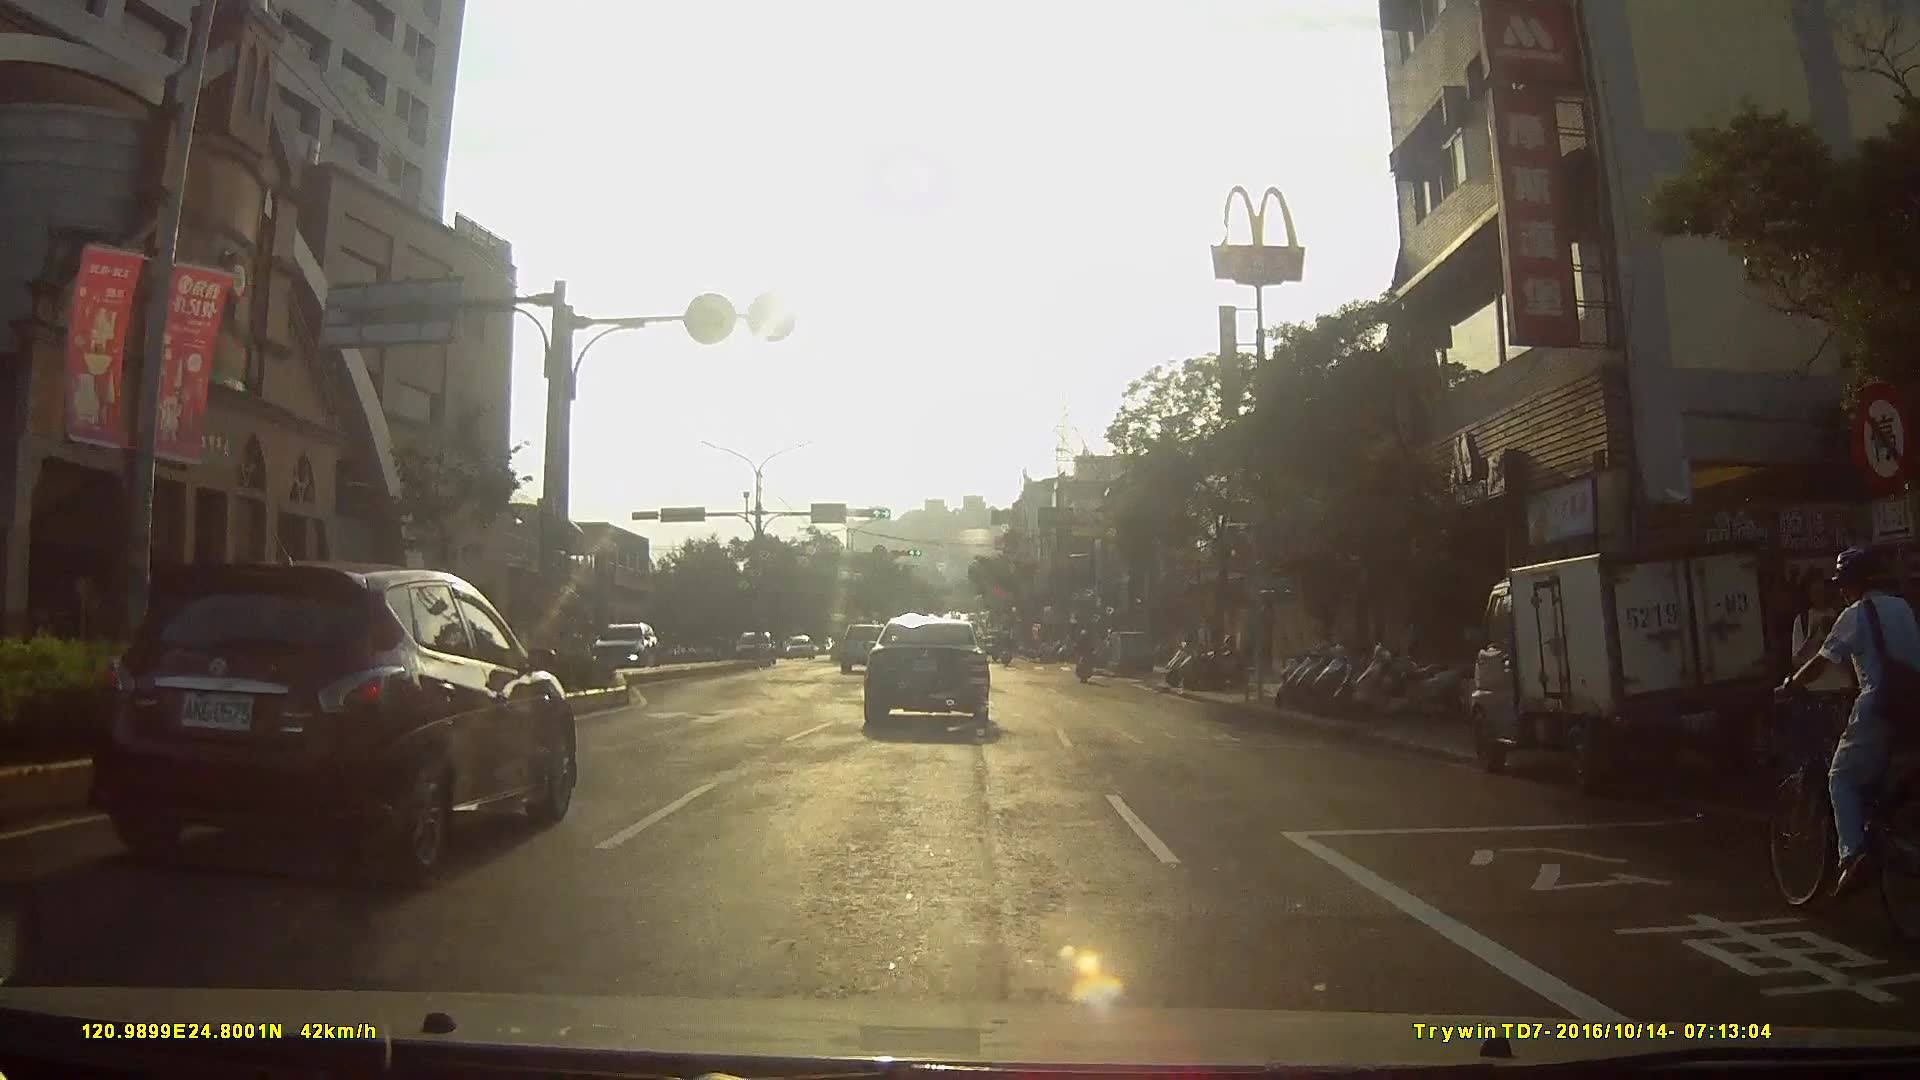pedestrian: (1782, 569, 1871, 824)
rider: (1764, 543, 1920, 921), (1074, 623, 1099, 684)
vehicle: (74, 553, 584, 874), (1456, 532, 1796, 793), (861, 611, 1003, 735), (576, 618, 662, 674), (836, 620, 894, 675), (717, 627, 767, 664), (777, 631, 824, 662)
